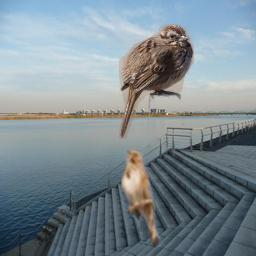Sparrow: (119, 24, 194, 139), (121, 147, 161, 249)
